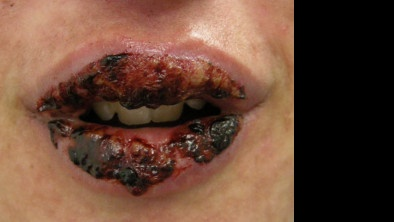SJS-TEN: (43, 111, 253, 204), (24, 43, 254, 118)
